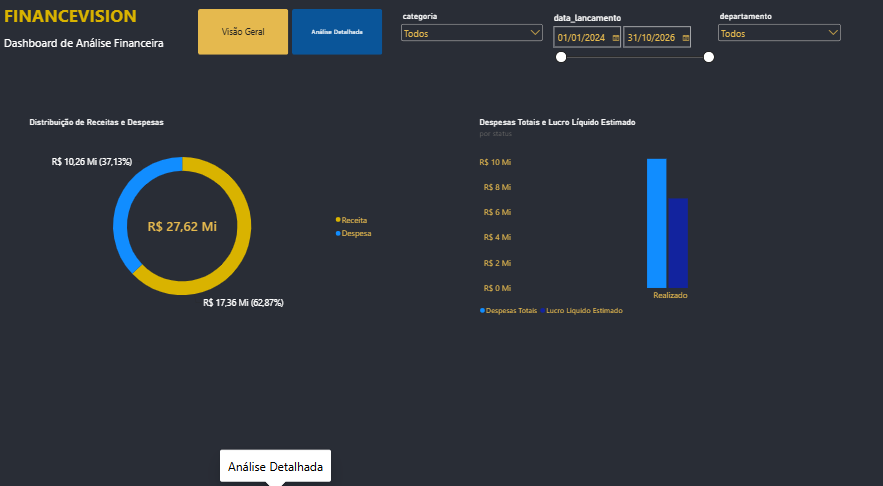

This screenshot's page, from the dashboard's own definition file:
{"tool":"powerbi","page":{"name":"Análise Detalhada","canvas":[1920,1080],"ordinal":1},"visuals":[{"type":"textbox","box":[10.8,0,356.4,129.6],"z":0},{"type":"donutChart","title":"Distribuição de Receitas e Despesas","fields":{"Category":["financevision lancamentos.tipo"],"Y":["Sum(financevision lancamentos.valor_brl)"]},"box":[49.7,250.6,779.8,462.2],"z":1},{"type":"clusteredColumnChart","fields":{"Category":["financevision lancamentos.status"],"Y":["financevision lancamentos.Despesas Totais","financevision lancamentos.Lucro Líquido Estimado"]},"box":[1021.7,250.6,779.8,462.2],"z":2},{"type":"pageNavigator","box":[429.8,30.2,399.6,99.4],"z":3},{"type":"slicer","fields":{"Values":["financevision lancamentos.data_lancamento"]},"box":[1190.2,38.9,358.6,142.6],"z":4},{"type":"slicer","title":"departamento","fields":{"Values":["financevision lancamentos.departamento"]},"box":[1548.7,34.6,274.3,142.6],"z":5},{"type":"slicer","title":"Categoria","fields":{"Values":["financevision lancamentos.categoria"]},"box":[864,34.6,315.4,146.9],"z":6}]}

Visuals, with their boxes in screenshot pixels (x1, y1, x2, y2), scaled from the page's 1920x1080 canvas onto the 883x486 screenshot:
textbox: [5,0,169,58]
"Distribuição de Receitas e Despesas" donutChart: [23,113,381,321]
clusteredColumnChart - financevision lancamentos.status x financevision lancamentos.Despesas Totais: [470,113,829,321]
pageNavigator: [198,14,381,58]
slicer - financevision lancamentos.data_lancamento: [547,18,712,82]
"departamento" slicer: [712,16,838,80]
"Categoria" slicer: [397,16,542,82]
